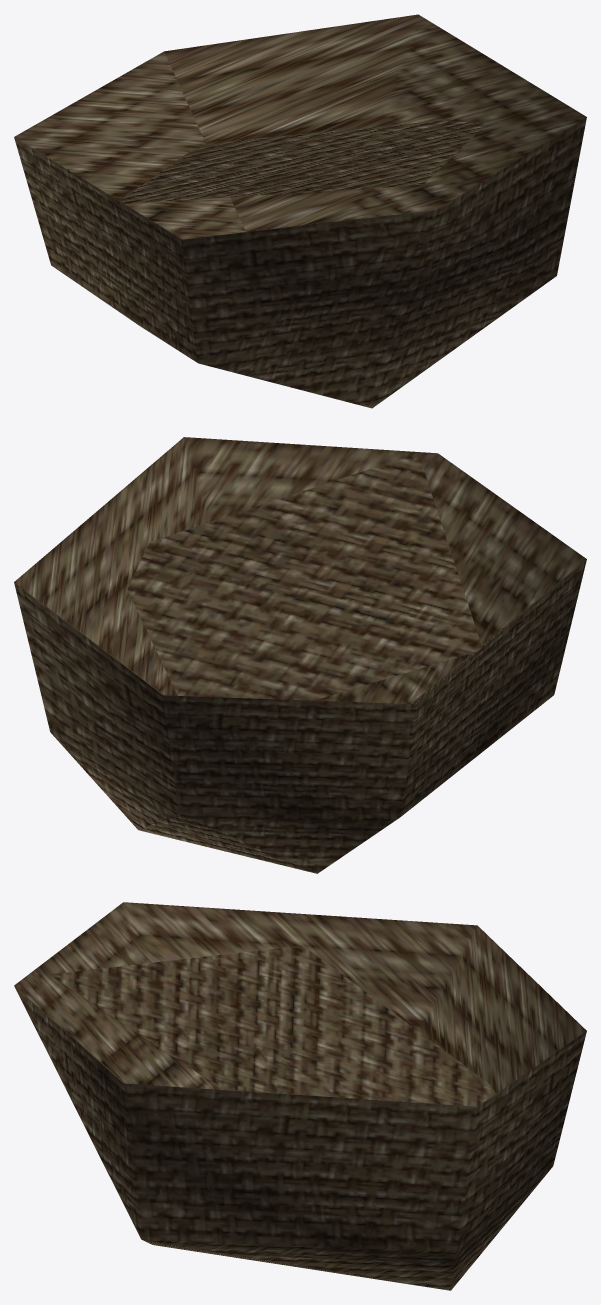
File: edb_con_tato_basket_s01_l2.fbx
The picture shows the model from 3 angles, top to bottom: view 1: azimuth 30°, elevation 25°; view 2: azimuth 150°, elevation 25°; view 3: azimuth 270°, elevation 25°; orthographic projection. The views are drawn at different scales.
Visible parts, largest first — view 1: mesh_node; view 2: mesh_node; view 3: mesh_node.
Boxes of the visible parts, x1,y1,x2,y2 form: mesh_node: [14, 14, 586, 408]; mesh_node: [14, 437, 586, 873]; mesh_node: [14, 902, 586, 1290].
Size of the model in its own units: 0.792 by 0.4842 by 0.928.
Materials: 1 (1 with a texture image).
